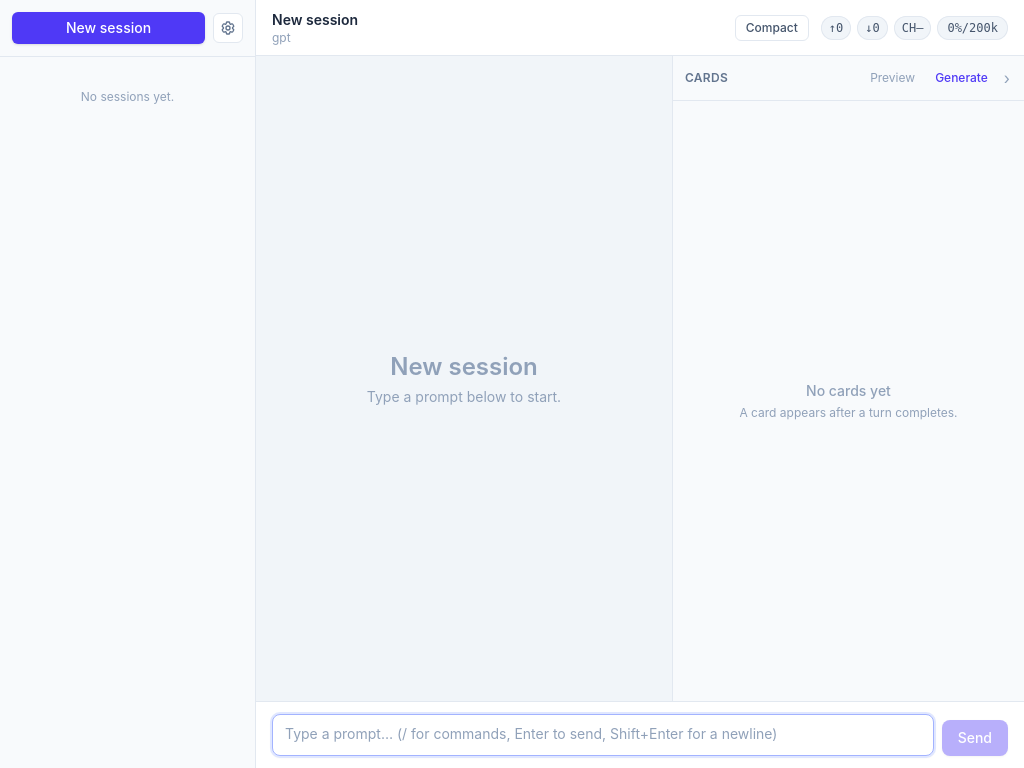
Usage HUD recalibration › keeps a newer local total when an older snapshot lands late
Click the button "Compact": (772, 28) [735, 14, 809, 40]
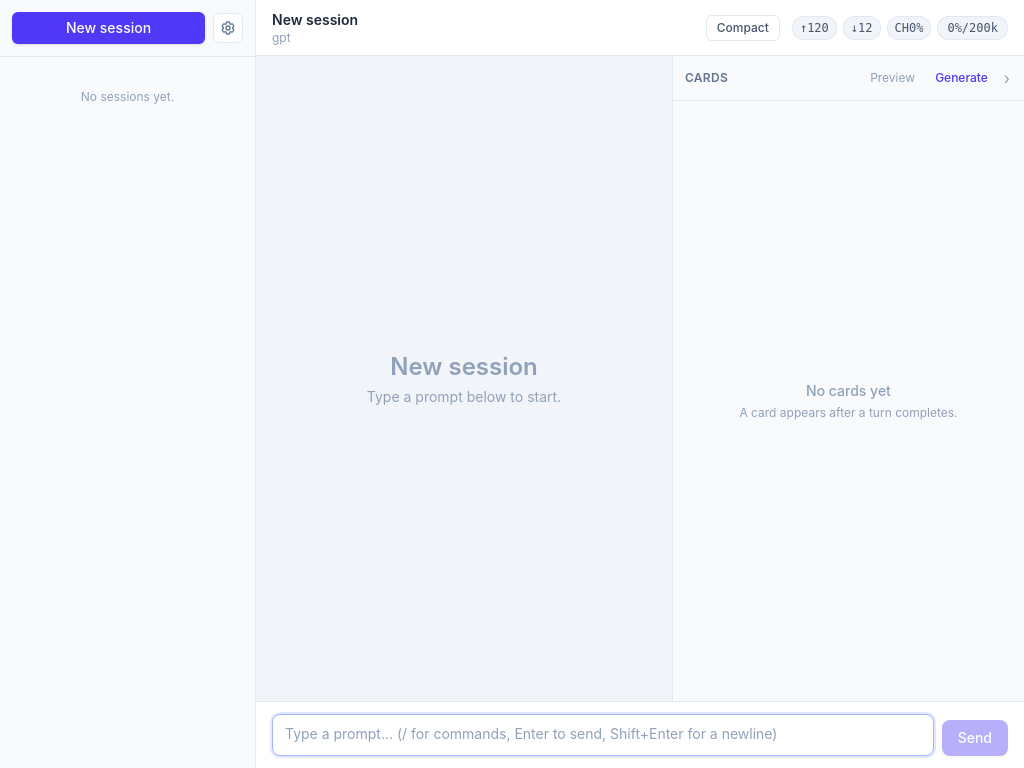
Expected: the text "↑120" is shown, [792, 16, 837, 40]
Expected: the text "↓12" is shown, [843, 16, 880, 40]
